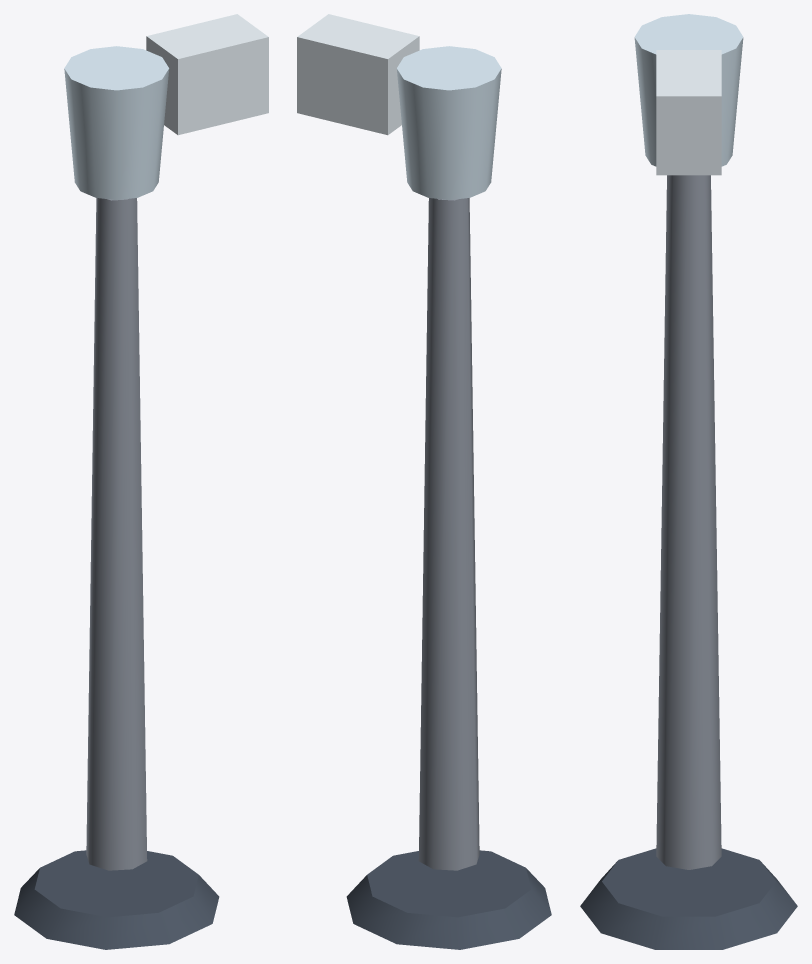
The model's file is parametric-source.glb.
3 views of the same model, side by side, from view 1: azimuth 30°, elevation 25°; view 2: azimuth 150°, elevation 25°; view 3: azimuth 270°, elevation 25° (orthographic). The views are drawn at different scales.
Visible parts, largest first — view 1: openclinxr.equipment.nebulizer_mask_equipment.stand, openclinxr.equipment.nebulizer_mask_equipment.base, openclinxr.equipment.nebulizer_mask_equipment.nebulizer_cup, openclinxr.equipment.nebulizer_mask_equipment.mask; view 2: openclinxr.equipment.nebulizer_mask_equipment.stand, openclinxr.equipment.nebulizer_mask_equipment.base, openclinxr.equipment.nebulizer_mask_equipment.nebulizer_cup, openclinxr.equipment.nebulizer_mask_equipment.mask; view 3: openclinxr.equipment.nebulizer_mask_equipment.stand, openclinxr.equipment.nebulizer_mask_equipment.base, openclinxr.equipment.nebulizer_mask_equipment.mask, openclinxr.equipment.nebulizer_mask_equipment.nebulizer_cup.
Part boxes in pixels (x1,y1,x2,y2): openclinxr.equipment.nebulizer_mask_equipment.stand: (86,198,147,870); openclinxr.equipment.nebulizer_mask_equipment.base: (14,850,219,949); openclinxr.equipment.nebulizer_mask_equipment.nebulizer_cup: (64,46,169,199); openclinxr.equipment.nebulizer_mask_equipment.mask: (146,14,268,135); openclinxr.equipment.nebulizer_mask_equipment.stand: (418,198,479,870); openclinxr.equipment.nebulizer_mask_equipment.base: (346,850,551,949); openclinxr.equipment.nebulizer_mask_equipment.nebulizer_cup: (396,46,501,199); openclinxr.equipment.nebulizer_mask_equipment.mask: (297,14,419,135); openclinxr.equipment.nebulizer_mask_equipment.stand: (656,175,721,869); openclinxr.equipment.nebulizer_mask_equipment.base: (580,848,797,949); openclinxr.equipment.nebulizer_mask_equipment.mask: (656,50,721,175); openclinxr.equipment.nebulizer_mask_equipment.nebulizer_cup: (634,14,743,166).
Bounding box in the file's own units: 0.2451 × 0.8905 × 0.2.
